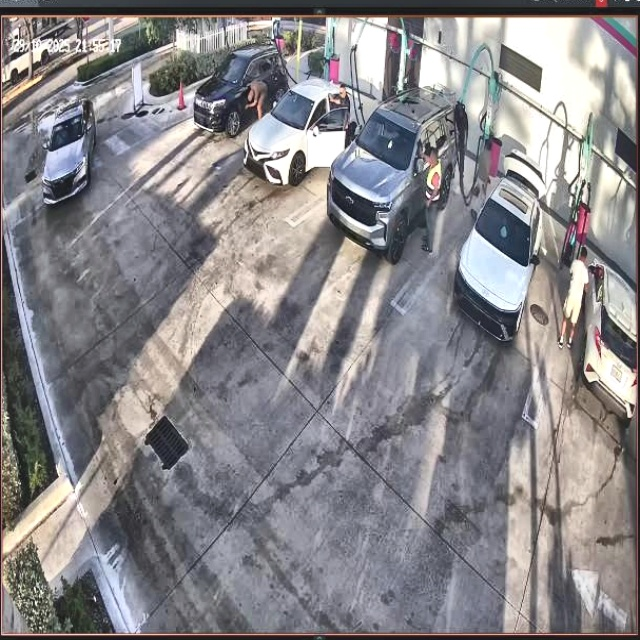Car: (327, 94, 466, 262), (453, 159, 542, 336), (246, 79, 363, 185)
